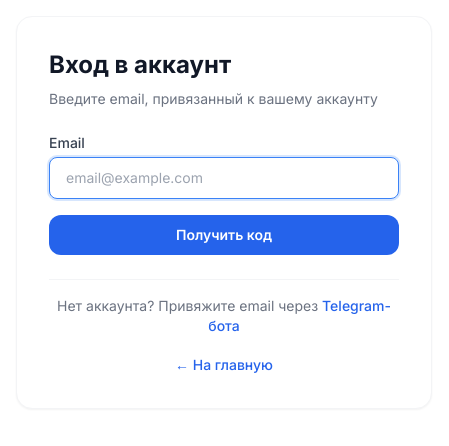
Scenario: LoginForm › shows a validation error for an invalid email
Step 1. Type "abc" into the field labelled "Email" → (224, 178), box [49,157,399,199]
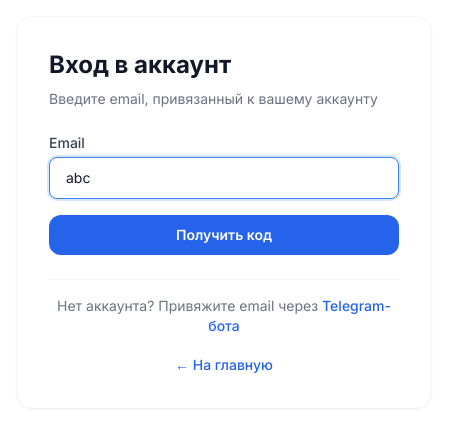
Step 2. Submit the form "Получить код", box [49,133,399,255]
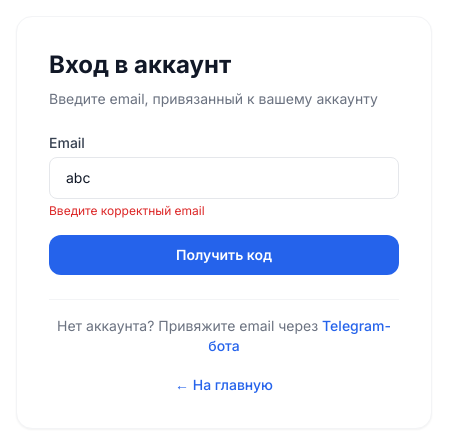
expect the text "Введите корректный email" is shown: met, box [49,203,205,218]
